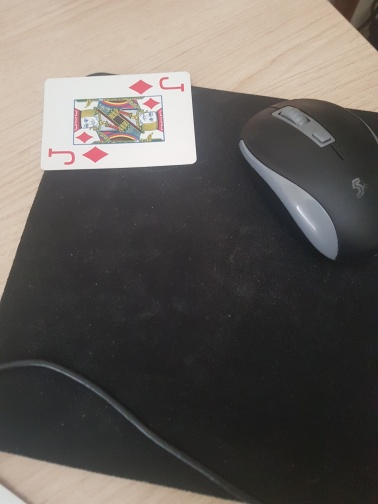jack: (39, 72, 198, 172)
